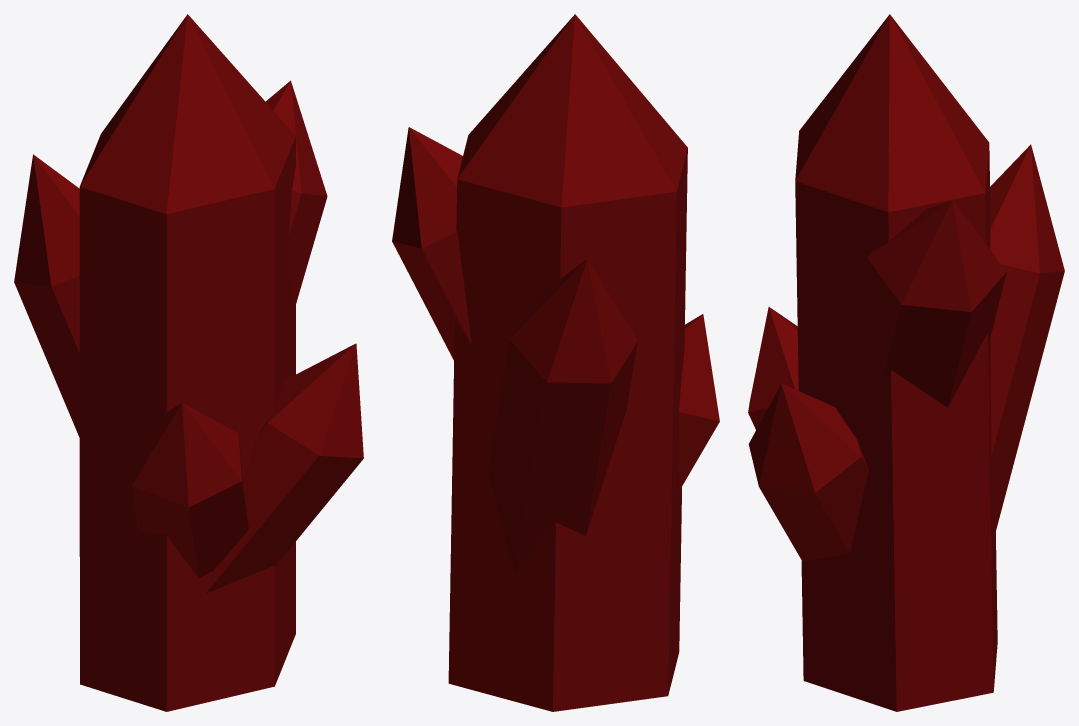
The model's file is red_crystal.glb.
3 views of the same model, side by side, from view 1: azimuth 30°, elevation 25°; view 2: azimuth 150°, elevation 25°; view 3: azimuth 270°, elevation 25° (orthographic).
Visible parts, largest first — view 1: NGon001, NGon005, NGon003, NGon004, NGon002; view 2: NGon001, NGon004, NGon002, NGon003; view 3: NGon001, NGon002, NGon004, NGon005, NGon003.
Part boxes in pixels (bbox=[...]): NGon001: bbox=[79, 14, 295, 711]; NGon005: bbox=[205, 343, 363, 593]; NGon003: bbox=[128, 403, 248, 577]; NGon004: bbox=[14, 154, 79, 437]; NGon002: bbox=[265, 80, 327, 310]; NGon001: bbox=[448, 14, 687, 711]; NGon004: bbox=[487, 259, 637, 575]; NGon002: bbox=[392, 127, 471, 359]; NGon003: bbox=[678, 314, 719, 491]; NGon001: bbox=[795, 14, 997, 711]; NGon002: bbox=[859, 200, 1006, 407]; NGon004: bbox=[990, 144, 1064, 537]; NGon005: bbox=[748, 383, 868, 561]; NGon003: bbox=[748, 307, 798, 429].
Size of the model in its own units: 8.69 by 21.63 by 9.6.
